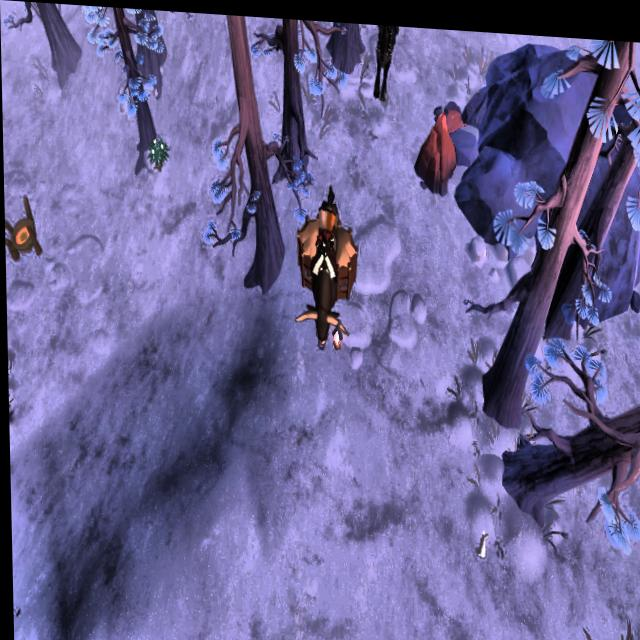fiber_t3: (146, 131, 167, 170)
rock_t5: (409, 107, 457, 193)
